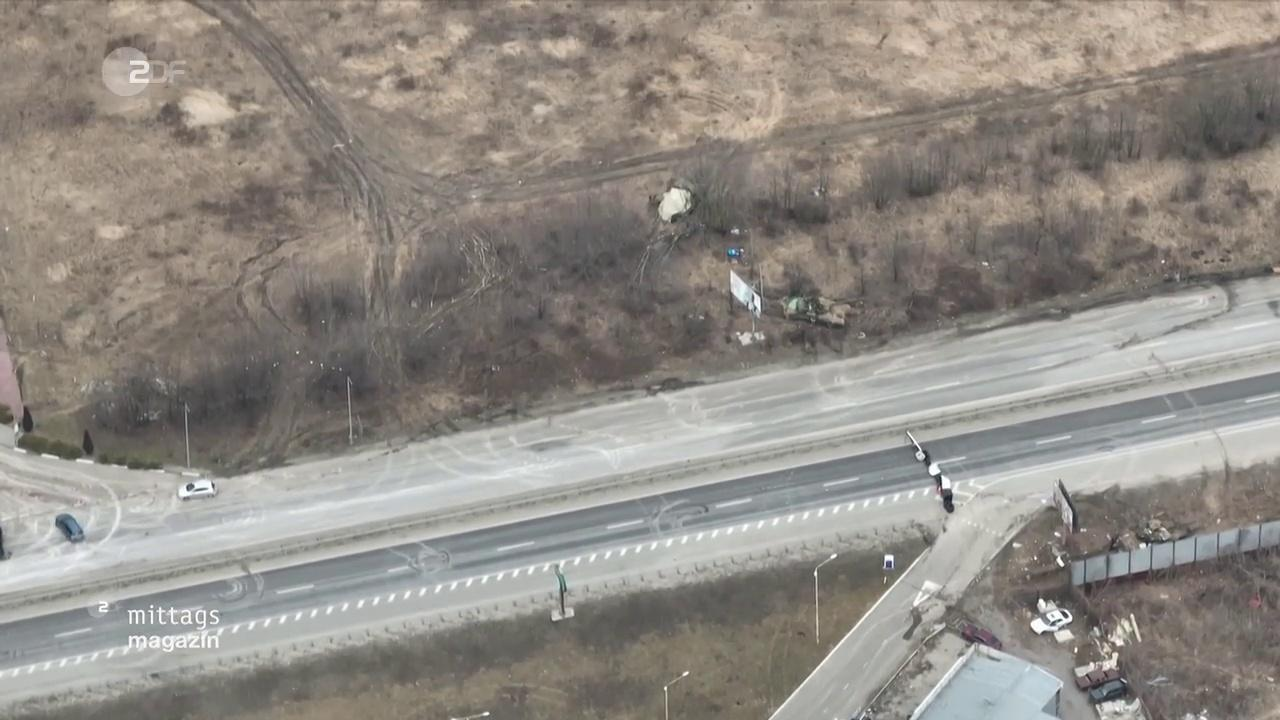car: (1030, 608, 1074, 635), (1075, 668, 1121, 692), (961, 625, 1003, 651), (176, 480, 218, 502), (56, 513, 86, 542), (1090, 681, 1126, 702)
tank: (1112, 516, 1200, 560), (781, 294, 868, 326)
